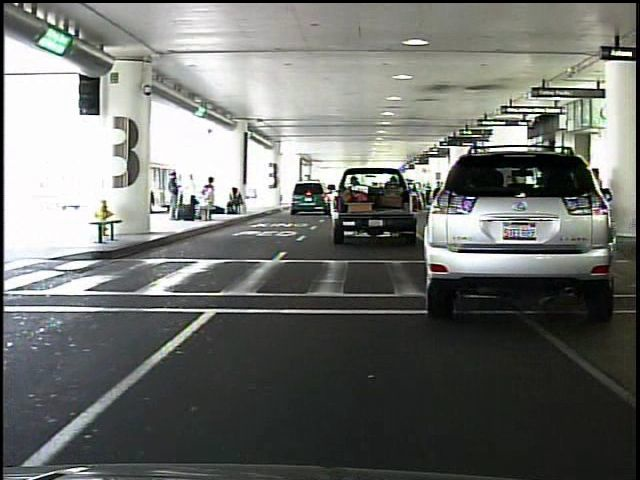person: (586, 166, 610, 250), (167, 171, 187, 223)
